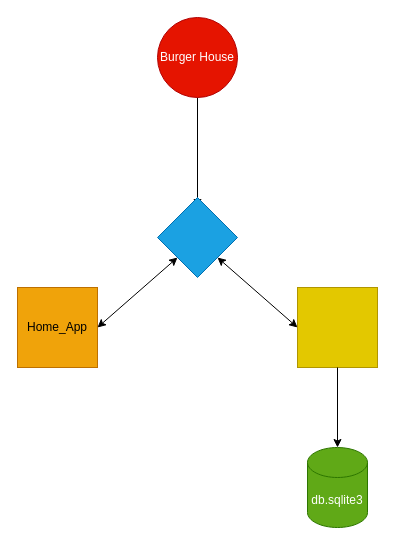
This 395x545 diagram has some shape labels left out. Each missing label, with the centre of its shape:
"Relations" goes at point 197,237.
"Web_Project" goes at point 337,327.
